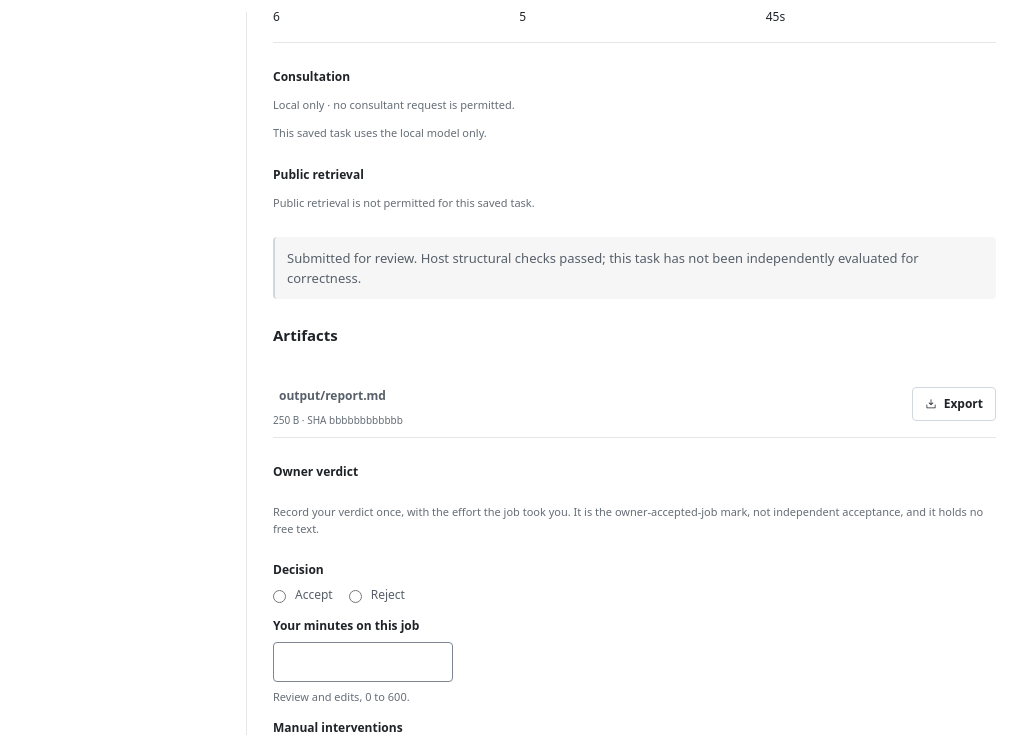
Test: general task workspace › rejects a stale artifact after its host snapshot changes
(page scrolled)
Click the button with aria-label "Preview output/report.md". click: (332, 396)
box: 273,379 -> 392,413
(page scrolled)
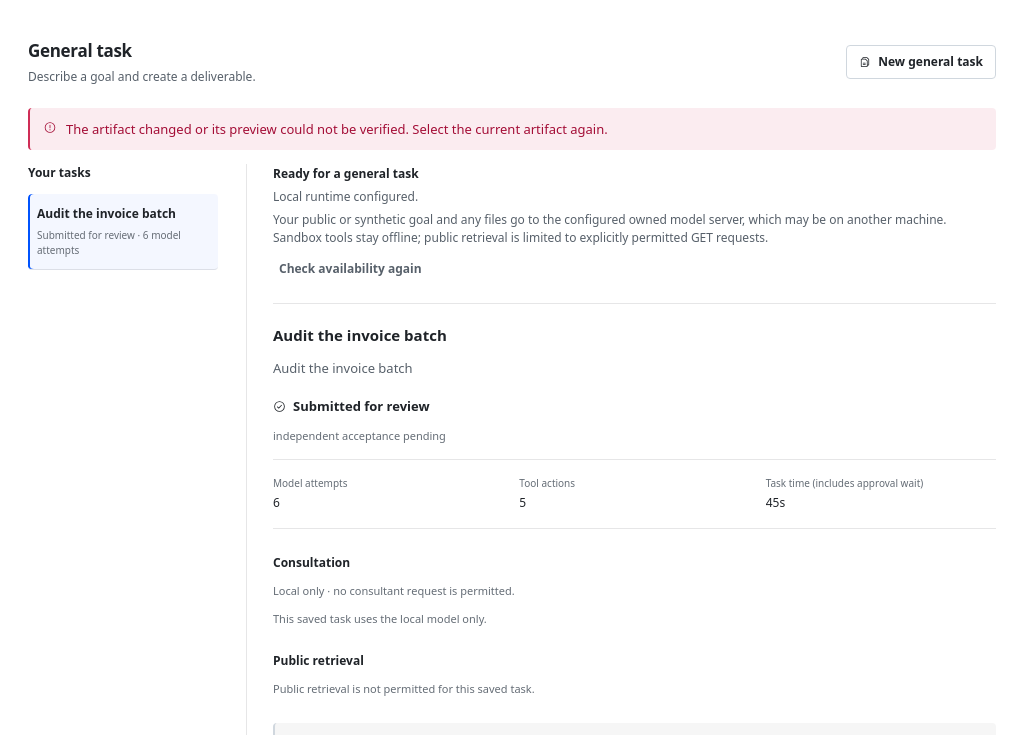
Check: the 1st message shows "changed", box 66,120 -> 608,138
